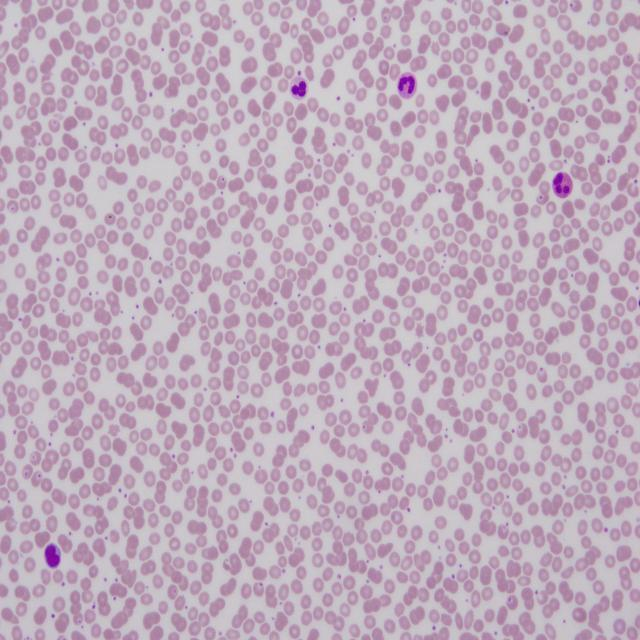cell: (398, 72, 418, 99), (290, 76, 308, 99)
